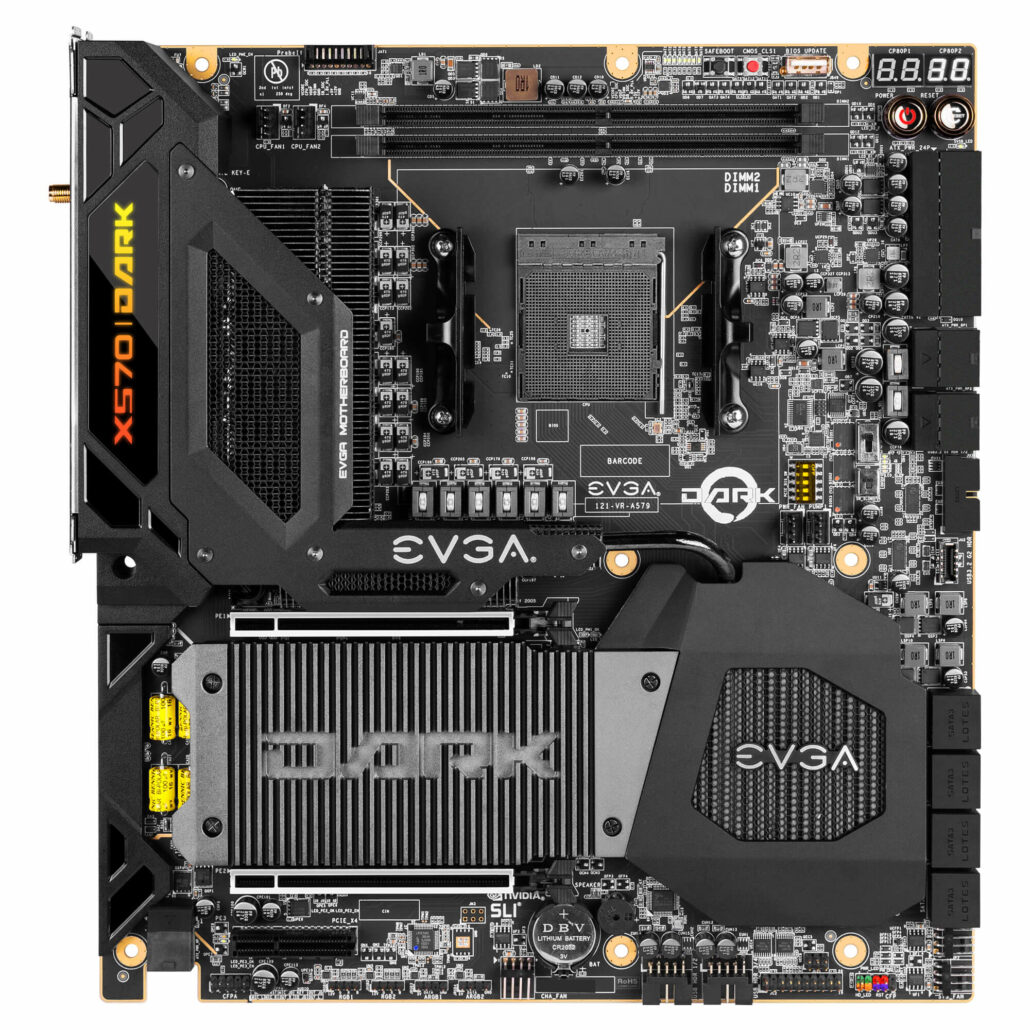Induktor: (936, 591, 963, 615), (903, 592, 928, 615), (937, 642, 962, 665), (819, 347, 844, 370), (804, 295, 829, 317), (902, 643, 925, 666), (785, 245, 807, 269), (411, 59, 434, 81), (858, 267, 881, 288), (783, 168, 806, 189)
